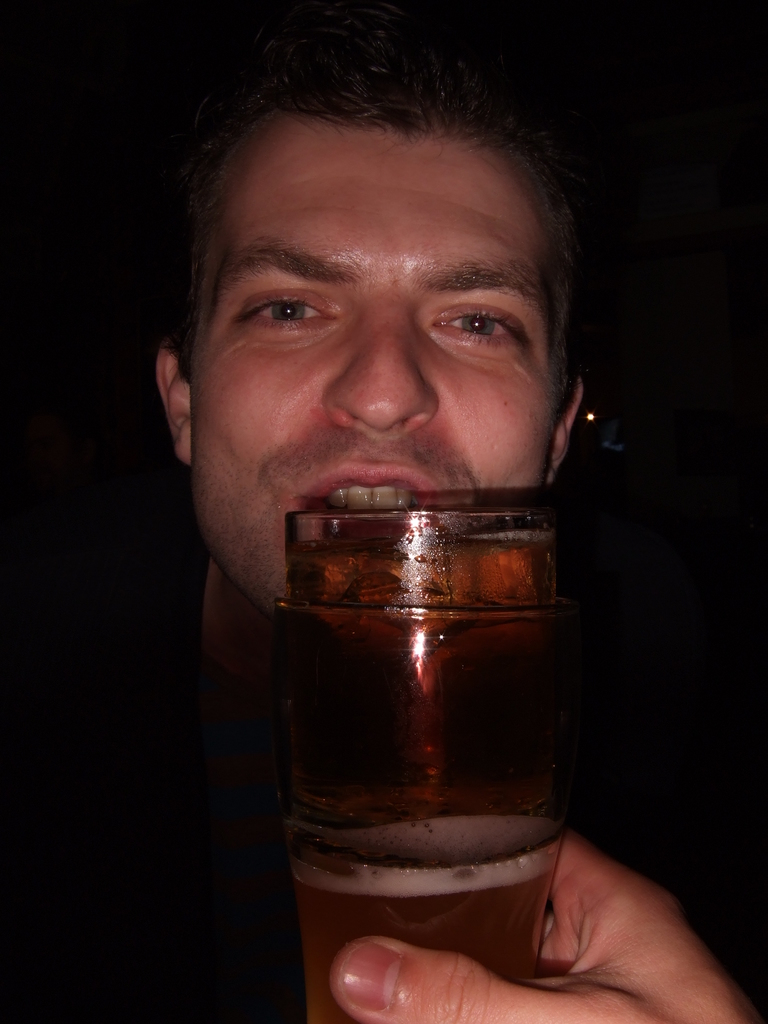Beer: (262, 481, 559, 1022)
